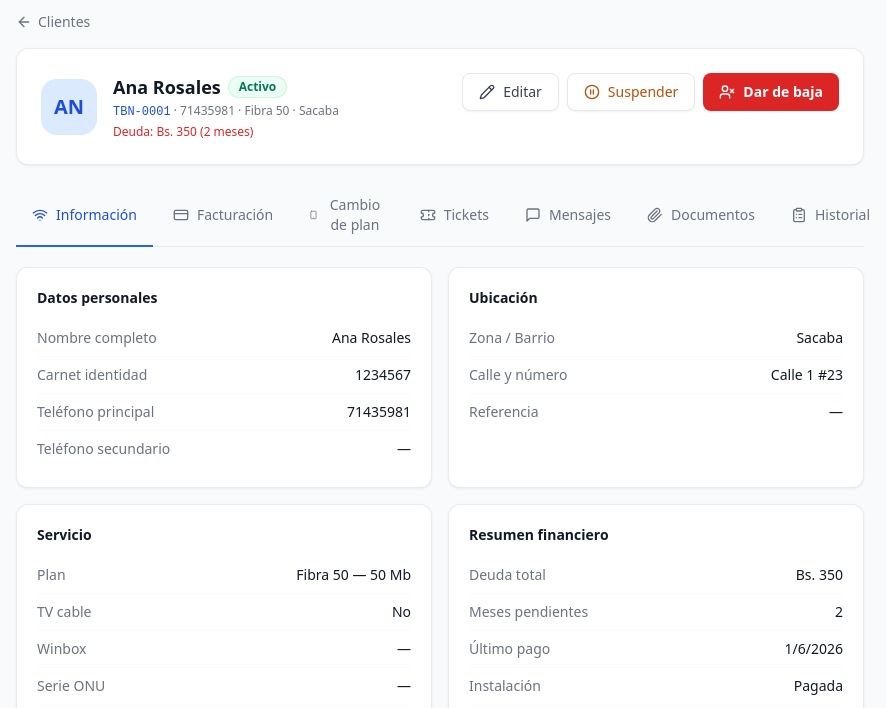
Scenario: ClientProfilePage — TC-FE-PROF-01 a TC-FE-PROF-09 (red de seguridad refactor B) › TC-FE-PROF-06 — pestaña Tickets muestra vacío cuando no hay tickets
Expected: the heading "Ana Rosales" is shown, [113, 73, 221, 101]
Step 1. Click the button "Tickets" → (454, 216), box [404, 185, 505, 247]
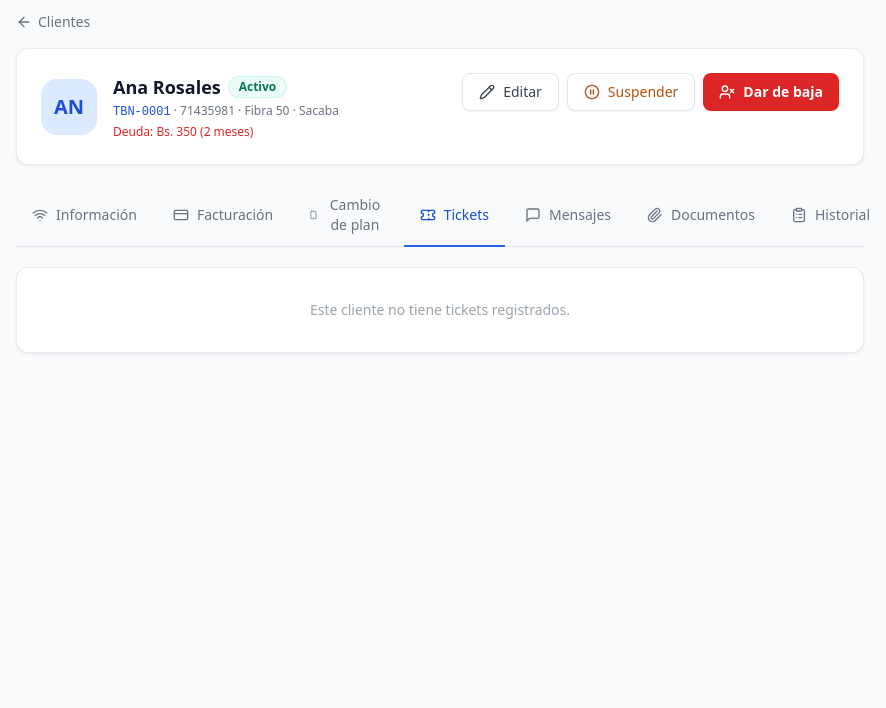
Now the text "Este cliente no tiene tickets registrados." is shown, box [16, 267, 864, 353]
